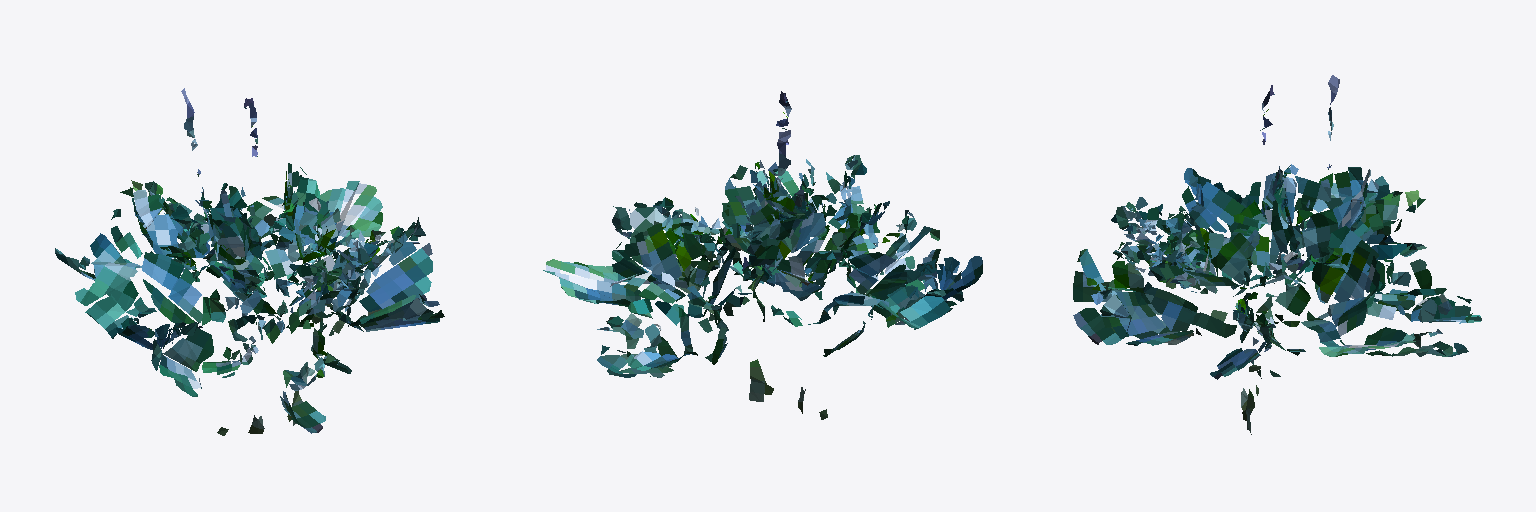
3 views of the same model, side by side, from view 1: azimuth 30°, elevation 25°; view 2: azimuth 150°, elevation 25°; view 3: azimuth 270°, elevation 25° (orthographic).
Bounding box in the file's own units: 3 × 2.71 × 3.09.
Materials: 1 (1 with a texture image).